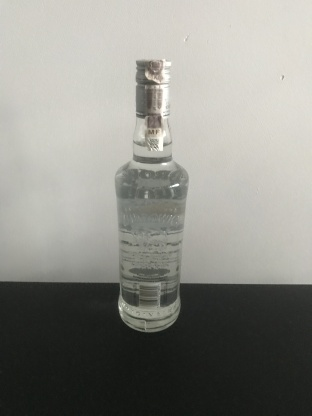nakretka: (133, 56, 173, 118)
